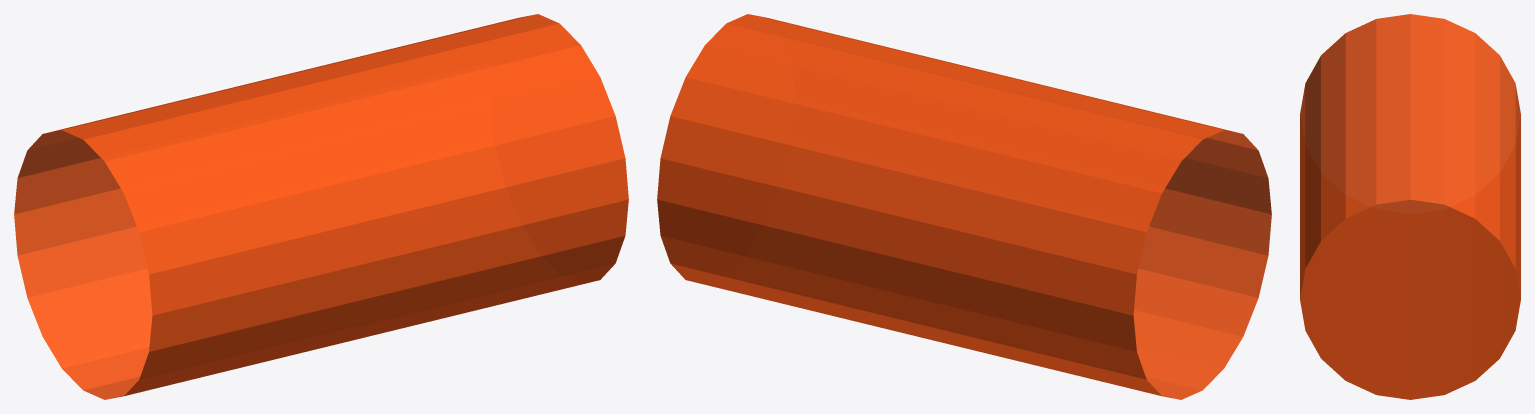
3 renders of one model, left to right at view 1: azimuth 30°, elevation 25°; view 2: azimuth 150°, elevation 25°; view 3: azimuth 270°, elevation 25°, orthographic. The views are drawn at different scales.
Bounding box in the file's own units: 0.1077 × 0.0542 × 0.0542.
